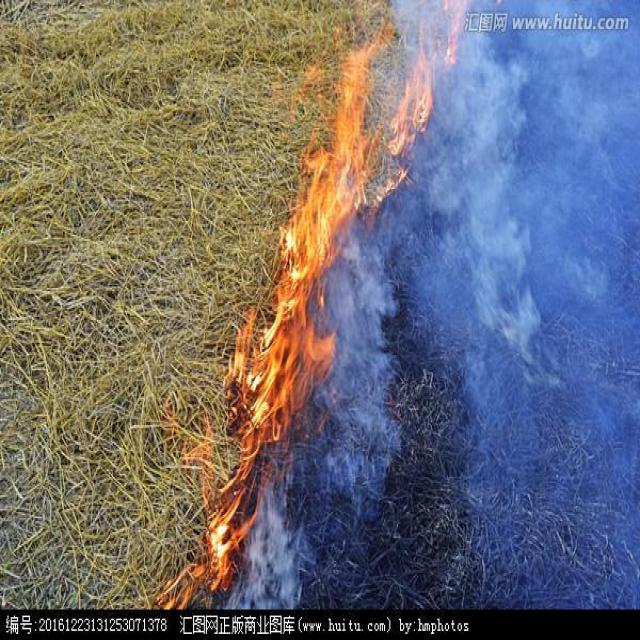fire: (148, 1, 472, 602)
